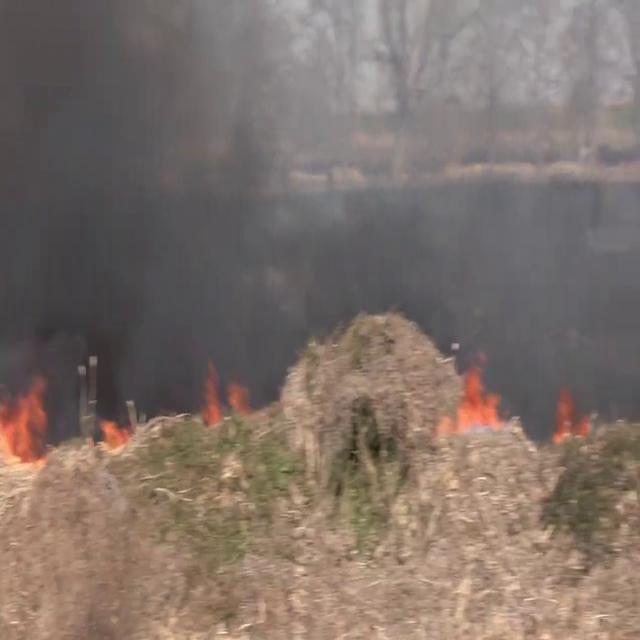Fire: (0, 370, 53, 466), (446, 350, 506, 434), (552, 379, 592, 449)
Smoke: (1, 0, 640, 391)
